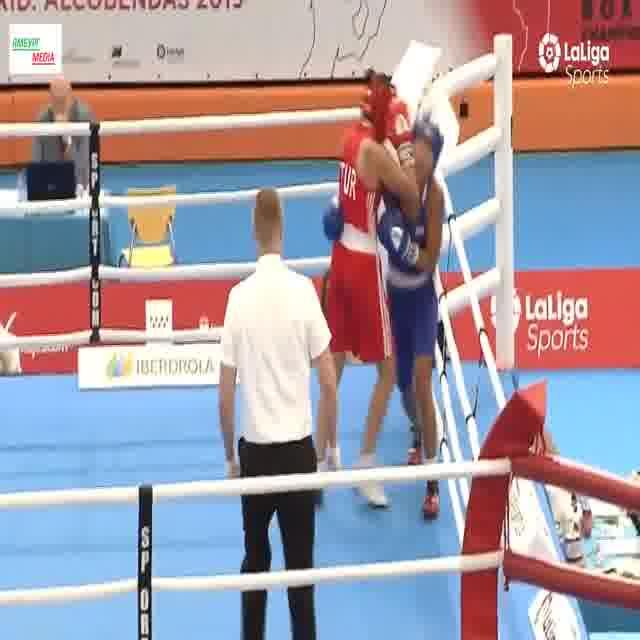blue-player: (323, 115, 448, 521)
red-player: (307, 69, 425, 511)
referee: (216, 183, 341, 640)
